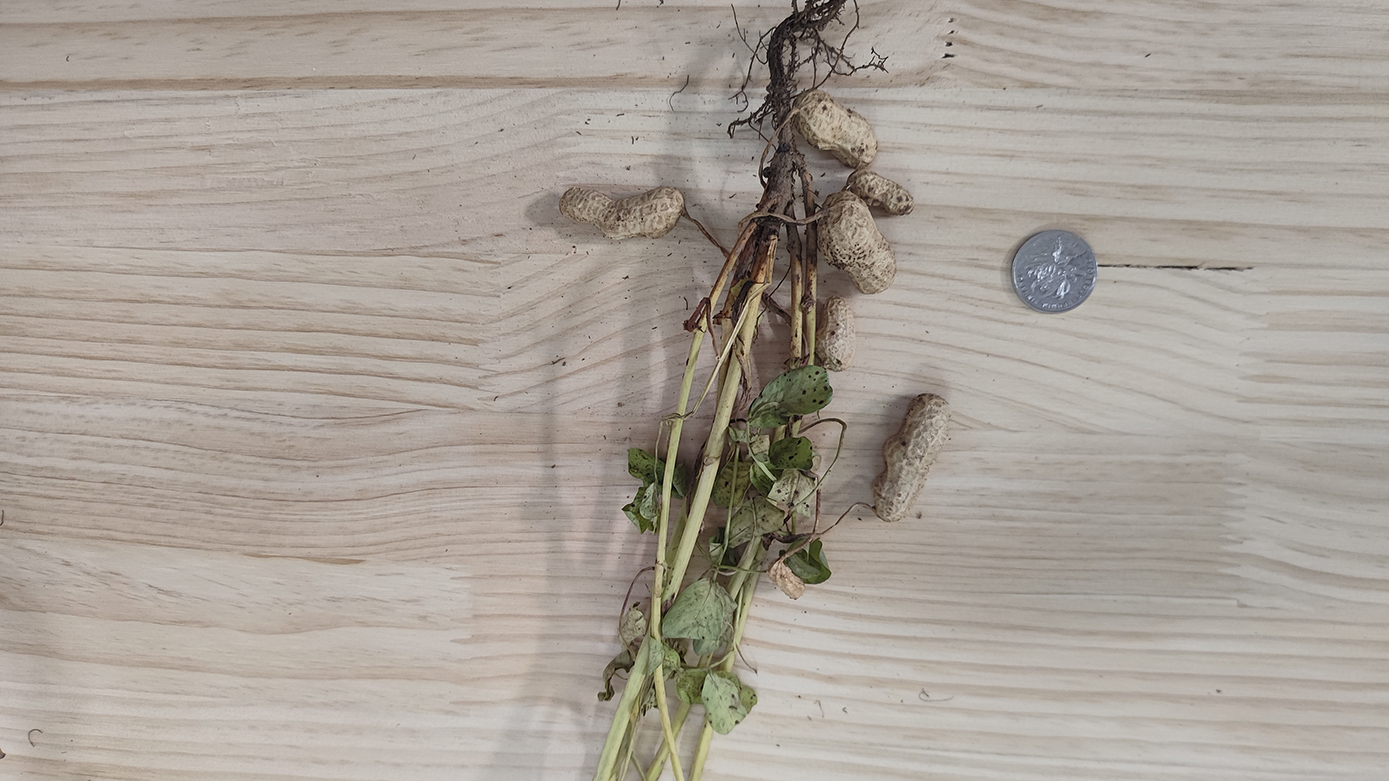h: (872, 391, 950, 522), (817, 191, 897, 294), (558, 184, 686, 239), (793, 90, 877, 170), (816, 294, 855, 370), (847, 170, 914, 214)
